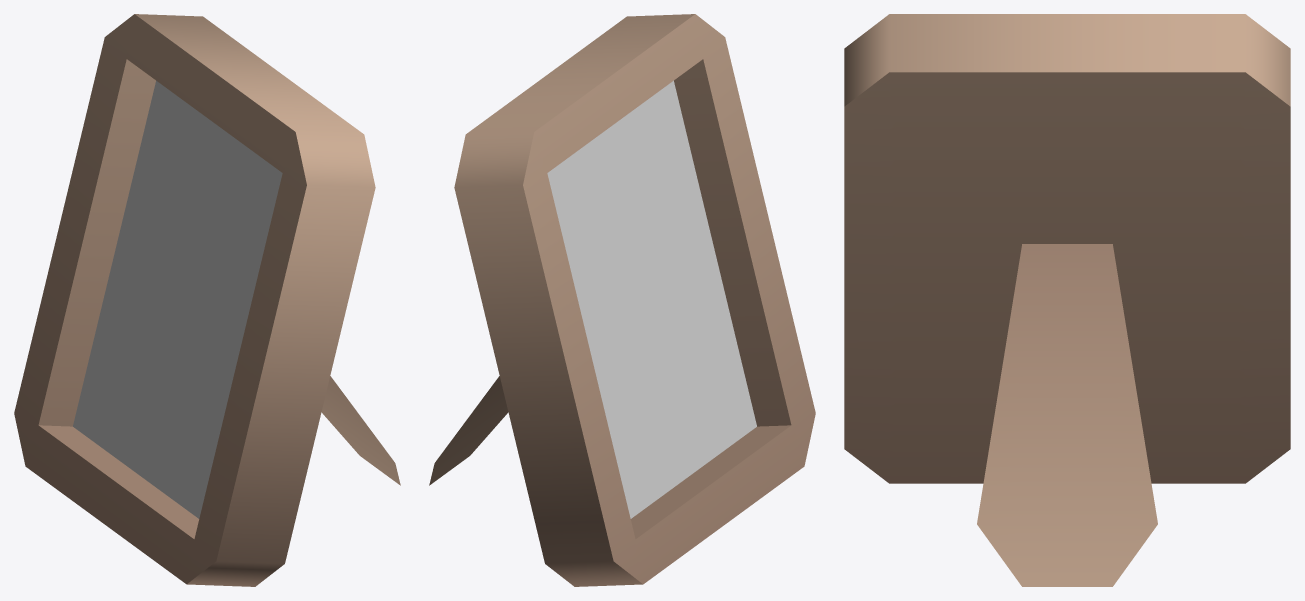
File: picture-frame.glb
The picture shows the model from 3 angles, left to right: view 1: azimuth 30°, elevation 25°; view 2: azimuth 150°, elevation 25°; view 3: azimuth 270°, elevation 25°; orthographic projection. The views are drawn at different scales.
Parts seen in each view (by area): view 1: picture-frame; view 2: picture-frame; view 3: picture-frame.
Boxes of the visible parts, x1=… form: picture-frame: x1=14, y1=14, x2=400, y2=586; picture-frame: x1=429, y1=14, x2=815, y2=586; picture-frame: x1=844, y1=14, x2=1290, y2=586.
Bounding box in the file's own units: 0.193 × 0.2993 × 0.2465.
